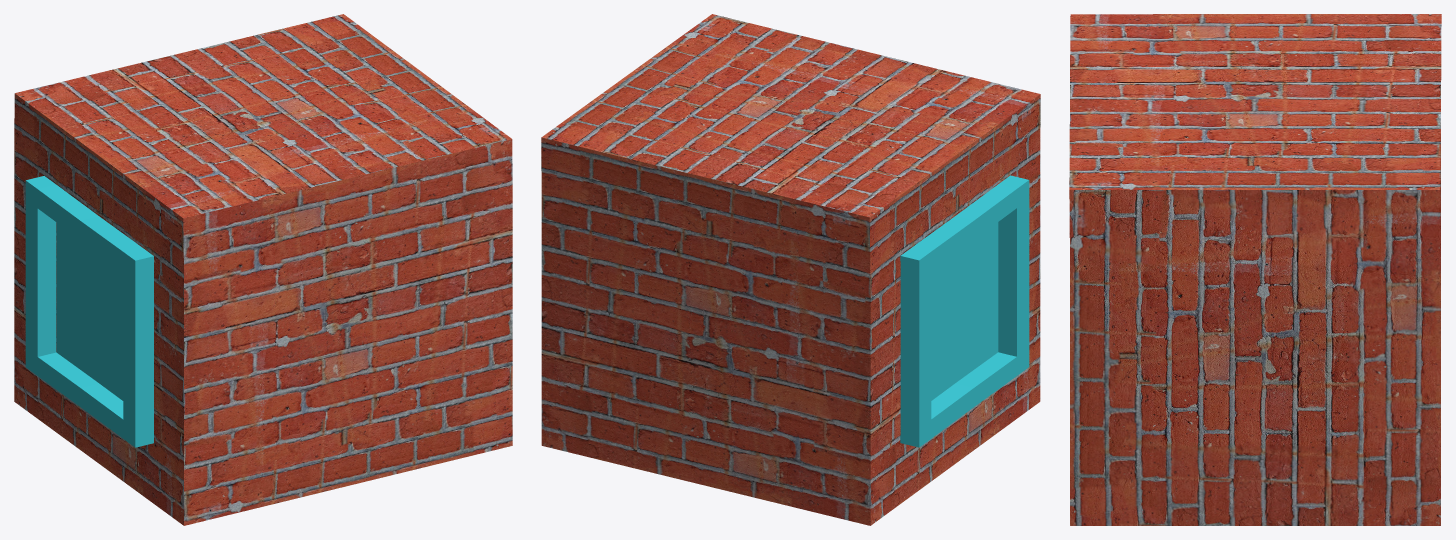
File: RedBrick_Single.fbx
The picture shows the model from 3 angles, left to right: view 1: azimuth 30°, elevation 25°; view 2: azimuth 150°, elevation 25°; view 3: azimuth 270°, elevation 25°; orthographic projection. The views are drawn at different scales.
Visible parts, largest first — view 1: Cube.001; view 2: Cube.001; view 3: Cube.001.
Part boxes in pixels (<box>): Cube.001: <box>14,14,512,525</box>; Cube.001: <box>541,14,1040,525</box>; Cube.001: <box>1069,14,1441,525</box>.
Size of the model in its own units: 204 by 204 by 242.
